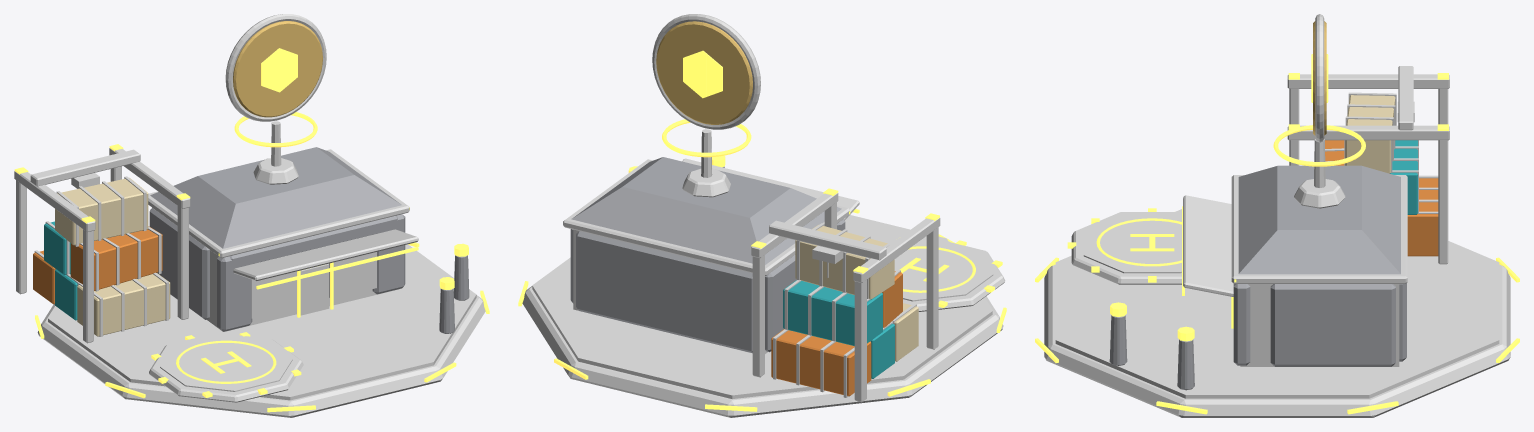
Rendered from sb_comptoir_t1.glb.
The picture shows the model from 3 angles, left to right: view 1: azimuth 30°, elevation 25°; view 2: azimuth 150°, elevation 25°; view 3: azimuth 270°, elevation 25°; orthographic projection. The views are drawn at different scales.
Visible parts, largest first — view 1: SM_CP_PLINTH_TOP, SM_CP_ROOF, SM_CP_HALL_PLATES, SM_CP_PLINTH, SM_CP_GANTRY, SM_CP_CRATE_C, SM_CP_COIN, SM_CP_PAD_TOP, SM_CP_CRATE_A, SM_CP_GLOW, SM_CP_AWNING, SM_CP_GALLERY (+12 smaller); view 2: SM_CP_HALL_PLATES, SM_CP_PLINTH_TOP, SM_CP_ROOF, SM_CP_PLINTH, SM_CP_GANTRY, SM_CP_COIN, SM_CP_CRATE_B, SM_CP_CRATE_A, SM_CP_CRATE_C, SM_CP_PAD_TOP, SM_CP_ROOF_EDGE, SM_CP_GLOW (+9 smaller); view 3: SM_CP_PLINTH_TOP, SM_CP_ROOF, SM_CP_HALL_PLATES, SM_CP_PLINTH, SM_CP_GANTRY, SM_CP_PAD_TOP, SM_CP_AWNING, SM_CP_GLOW, SM_CP_ROOF_EDGE, SM_CP_CRATE_C, SM_CP_CRATE_A, SM_CP_HALL_CORE (+10 smaller).
Part boxes in pixels (x1=…): SM_CP_PLINTH_TOP: x1=48, y1=244, x2=476, y2=400; SM_CP_ROOF: x1=150, y1=147, x2=401, y2=248; SM_CP_HALL_PLATES: x1=149, y1=207, x2=405, y2=331; SM_CP_PLINTH: x1=37, y1=295, x2=485, y2=417; SM_CP_GANTRY: x1=14, y1=148, x2=190, y2=343; SM_CP_CRATE_C: x1=55, y1=177, x2=170, y2=336; SM_CP_COIN: x1=233, y1=21, x2=322, y2=117; SM_CP_PAD_TOP: x1=160, y1=335, x2=292, y2=391; SM_CP_CRATE_A: x1=33, y1=226, x2=162, y2=304; SM_CP_GLOW: x1=14, y1=144, x2=489, y2=412; SM_CP_AWNING: x1=233, y1=229, x2=418, y2=280; SM_CP_GALLERY: x1=251, y1=252, x2=376, y2=318; SM_CP_HALL_PLATES: x1=570, y1=219, x2=845, y2=353; SM_CP_PLINTH_TOP: x1=532, y1=215, x2=992, y2=398; SM_CP_ROOF: x1=571, y1=157, x2=841, y2=264; SM_CP_PLINTH: x1=522, y1=241, x2=1003, y2=417; SM_CP_GANTRY: x1=751, y1=193, x2=940, y2=402; SM_CP_COIN: x1=656, y1=21, x2=752, y2=124; SM_CP_CRATE_B: x1=783, y1=280, x2=894, y2=378; SM_CP_CRATE_A: x1=771, y1=271, x2=902, y2=396; SM_CP_CRATE_C: x1=795, y1=225, x2=918, y2=361; SM_CP_PAD_TOP: x1=894, y1=240, x2=993, y2=301; SM_CP_ROOF_EDGE: x1=563, y1=159, x2=849, y2=276; SM_CP_GLOW: x1=518, y1=155, x2=1006, y2=411; SM_CP_PLINTH_TOP: x1=1055, y1=209, x2=1499, y2=398; SM_CP_ROOF: x1=1238, y1=165, x2=1400, y2=274; SM_CP_HALL_PLATES: x1=1233, y1=283, x2=1406, y2=366; SM_CP_PLINTH: x1=1044, y1=264, x2=1510, y2=417; SM_CP_GANTRY: x1=1287, y1=66, x2=1449, y2=264; SM_CP_PAD_TOP: x1=1083, y1=214, x2=1181, y2=273; SM_CP_AWNING: x1=1183, y1=195, x2=1233, y2=296; SM_CP_GLOW: x1=1035, y1=73, x2=1519, y2=414; SM_CP_ROOF_EDGE: x1=1231, y1=175, x2=1407, y2=283; SM_CP_CRATE_C: x1=1345, y1=95, x2=1395, y2=173; SM_CP_CRATE_A: x1=1325, y1=140, x2=1438, y2=256; SM_CP_HALL_CORE: x1=1240, y1=284, x2=1399, y2=366.
Bounding box in the file's own units: 28.66 × 20.76 × 28.66.
